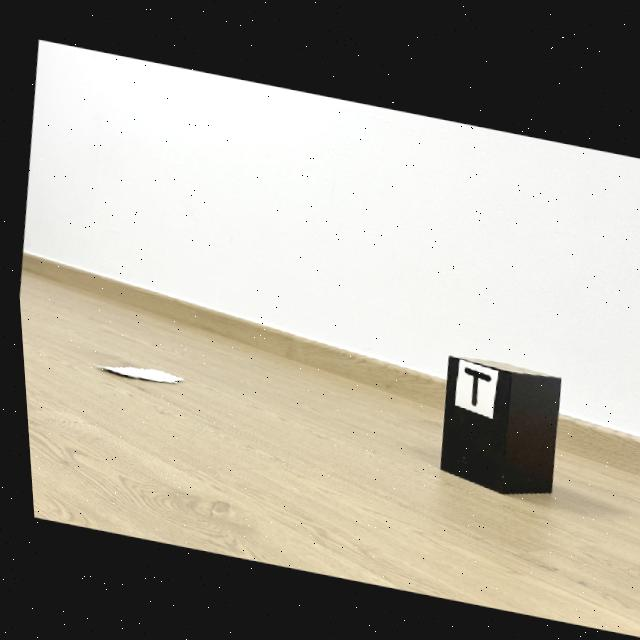T: (460, 362, 487, 401)
